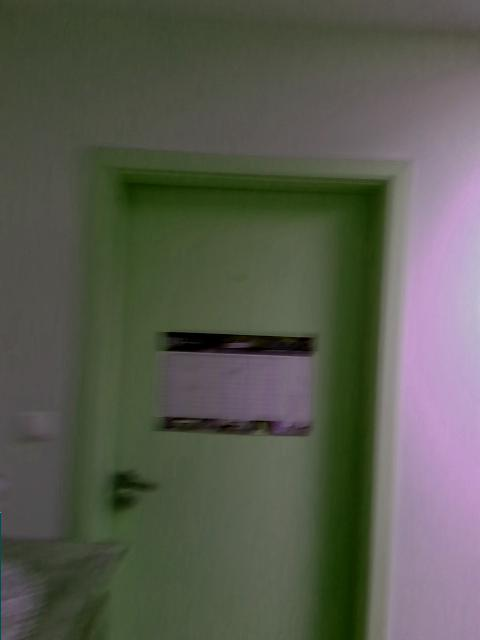closed_door: (63, 143, 407, 638)
